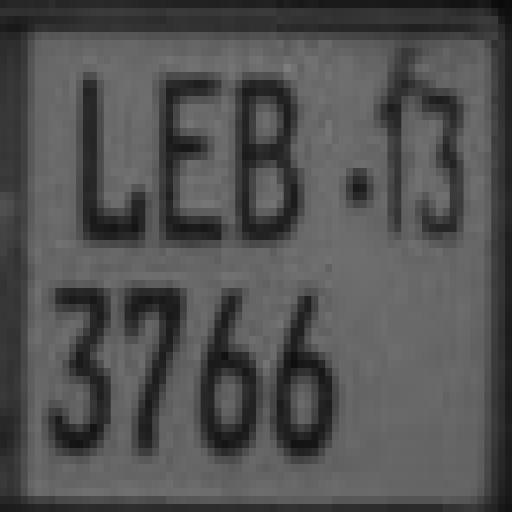3: (41, 272, 120, 456)
6: (261, 294, 365, 471), (200, 286, 256, 466)
7: (129, 280, 185, 466)
B: (233, 66, 303, 246)
E: (154, 76, 214, 252)
L: (71, 62, 147, 242)
